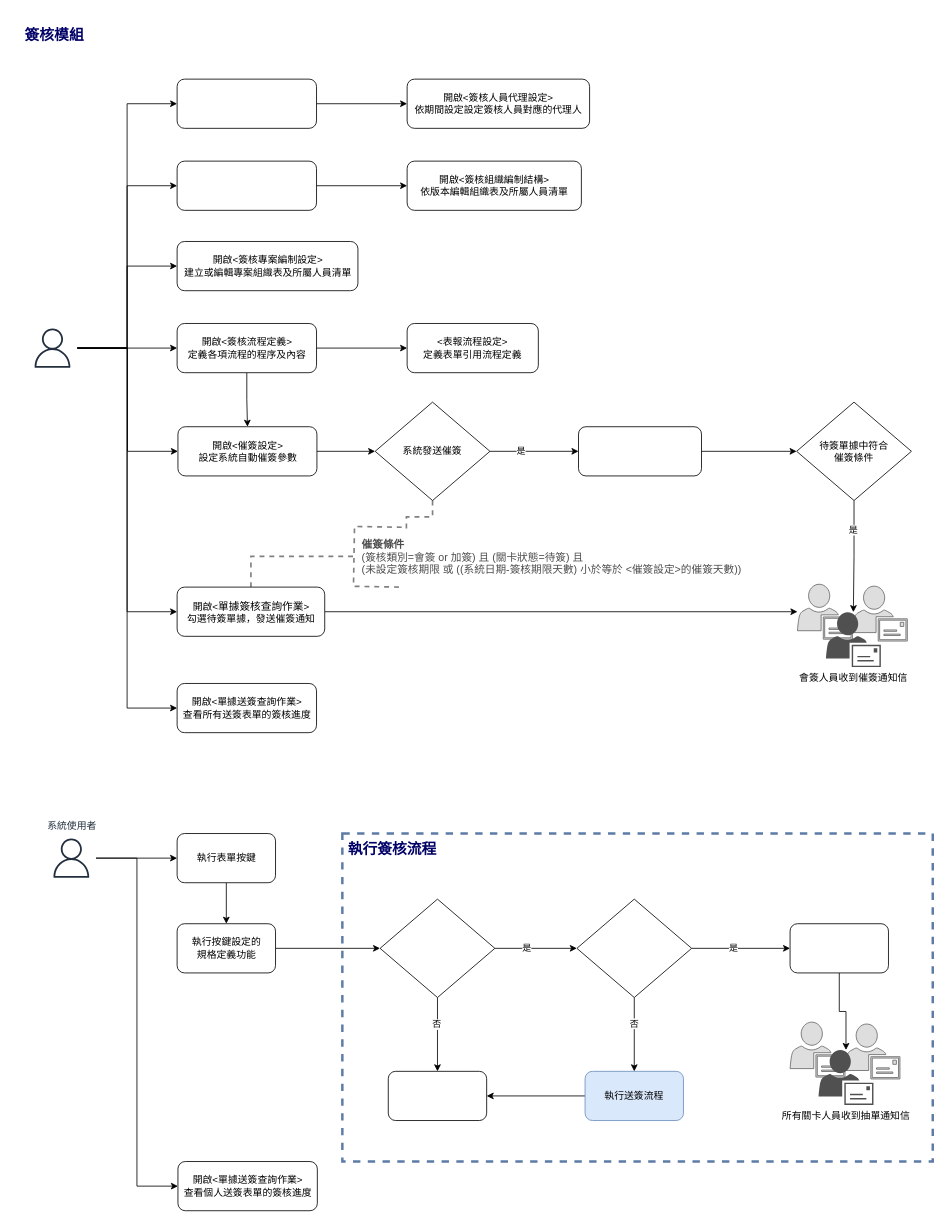
Image size: 948x1225. Some labels were removed from this diagram. Here are the shapes that lost their labels. From the top down, the centre of each, then its label:
At (246,103): "開啟<簽核人員設定> 查看可送簽及簽核人員清單".
At (246,185): "開啟<簽核組織編制> 建立或檢視編制版本".
At (52,348): "管理人員".
At (640,451): "系統排程於每日00點 執行催簽設定內容".
At (437,948): "判斷單據是否 須進行簽核?".
At (634,948): "判斷按鍵執行動作 是否為簽核抽單?".
At (838,948): "執行簽核抽單".
At (437,1096): "結束".
